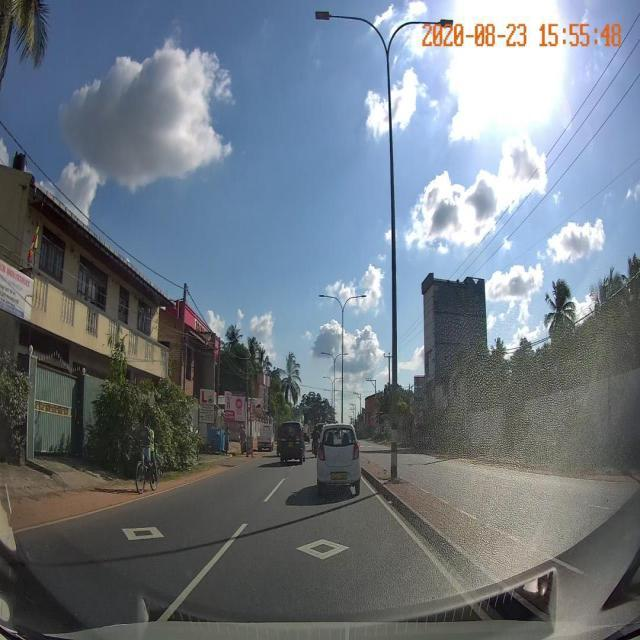Liniya 1: (363, 481, 494, 620), (153, 522, 249, 623), (262, 478, 286, 502)
Romb: (297, 538, 349, 560), (122, 524, 164, 539)
